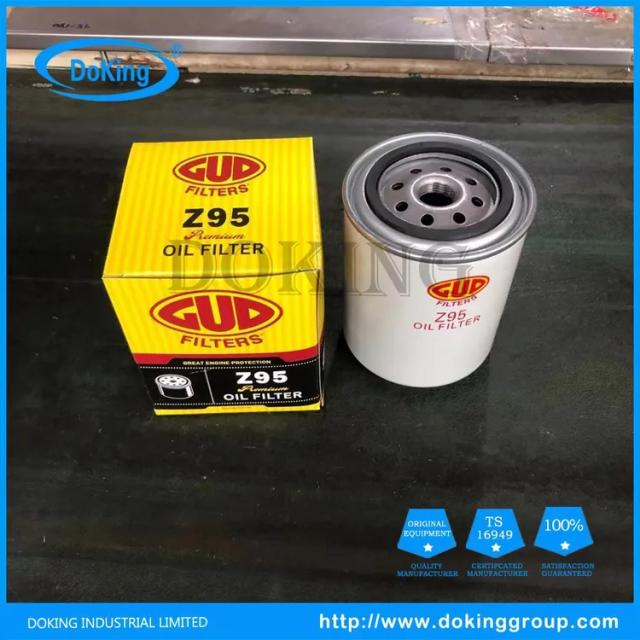oil_filter: (337, 124, 542, 396)
